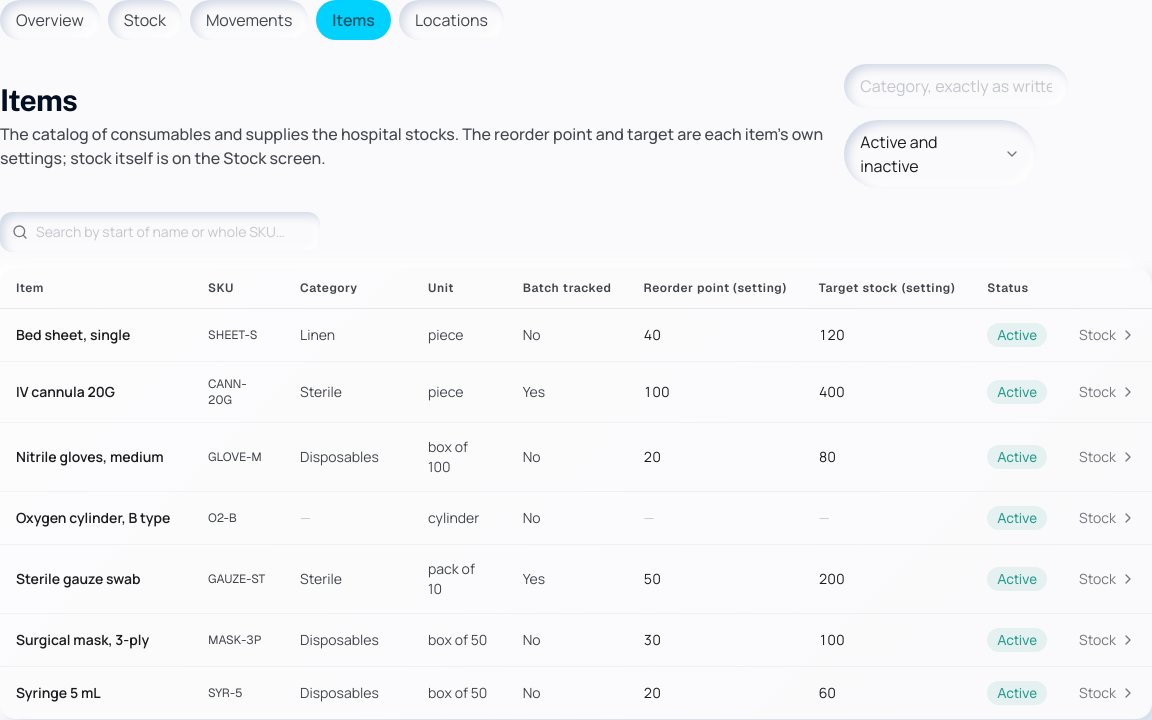
Test case: items › sends every filter together, and says when a status is what leaves the list empty
Check: the row "Syringe 5 mL" is shown, box x1=0 y1=666 x2=1151 y2=719
Click the dropdown named "Filter by status" at (940, 154), box x1=844 y1=120 x2=1036 y2=188
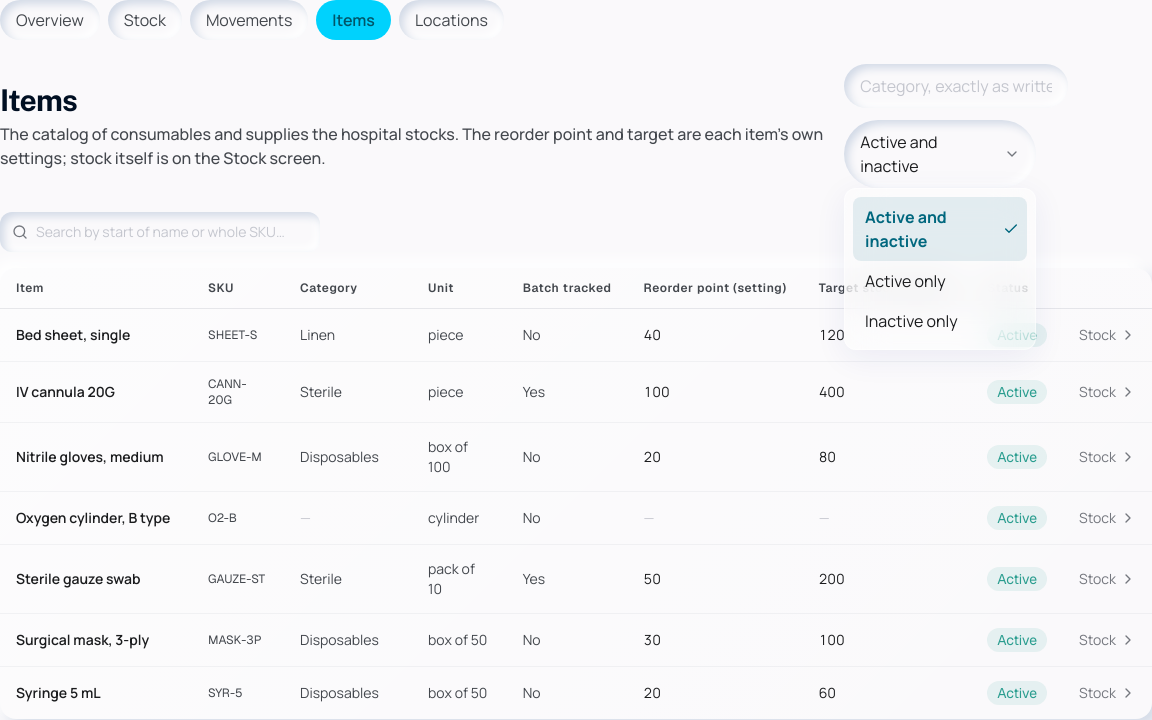
Click the option "Inactive only" at (911, 321), box x1=865 y1=310 x2=958 y2=332
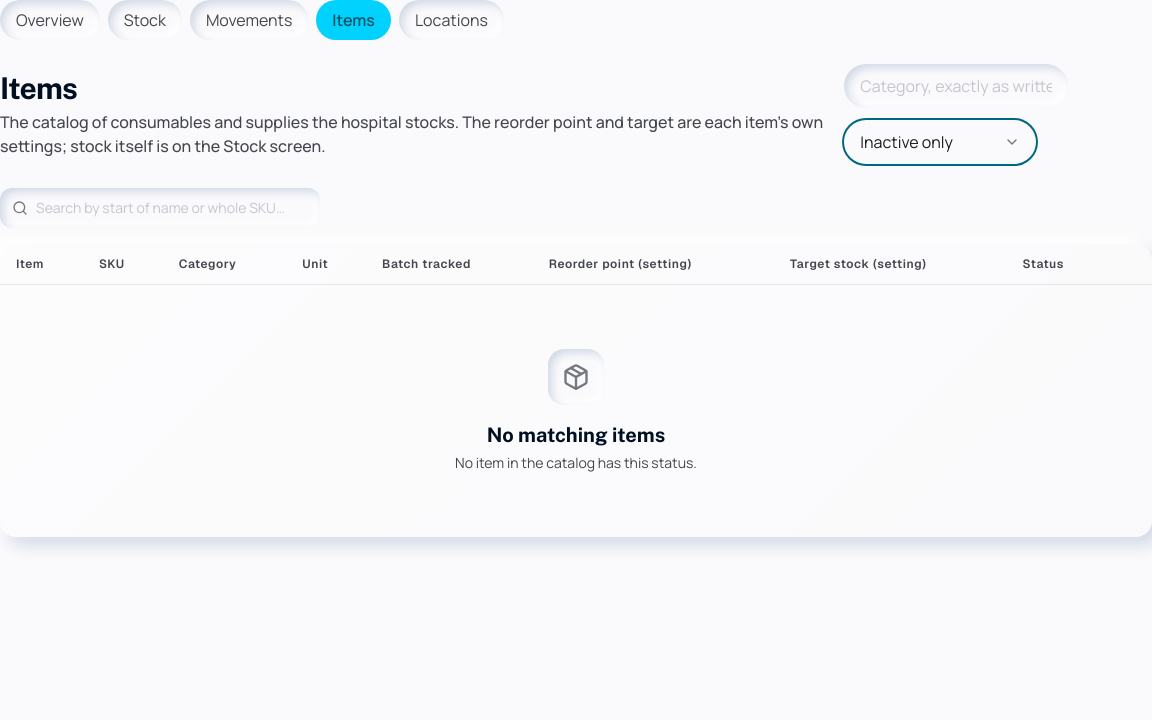
Check: the text "No matching items" is shown, box x1=487 y1=423 x2=665 y2=447
Check: the text "No item in the catalog has this status." is shown, box x1=455 y1=453 x2=697 y2=473
Click the dropdown named "Filter by status" at (940, 142), box x1=844 y1=120 x2=1036 y2=164
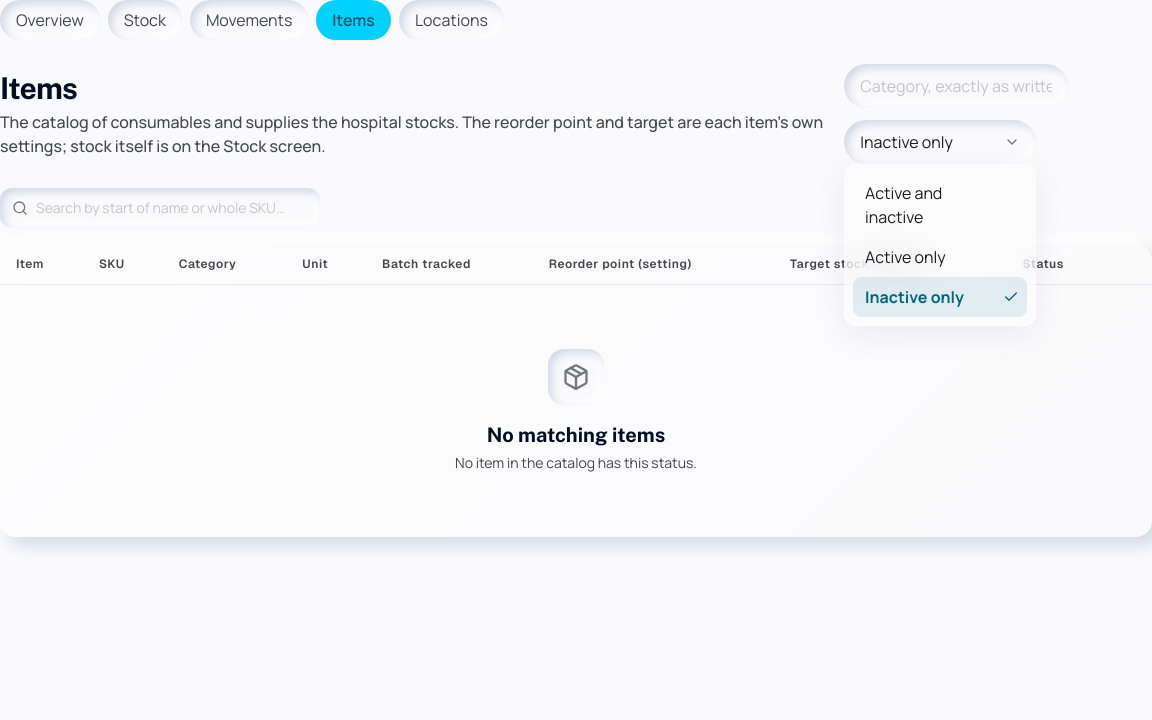
Click the option "Active only" at (905, 257), box x1=865 y1=246 x2=946 y2=268
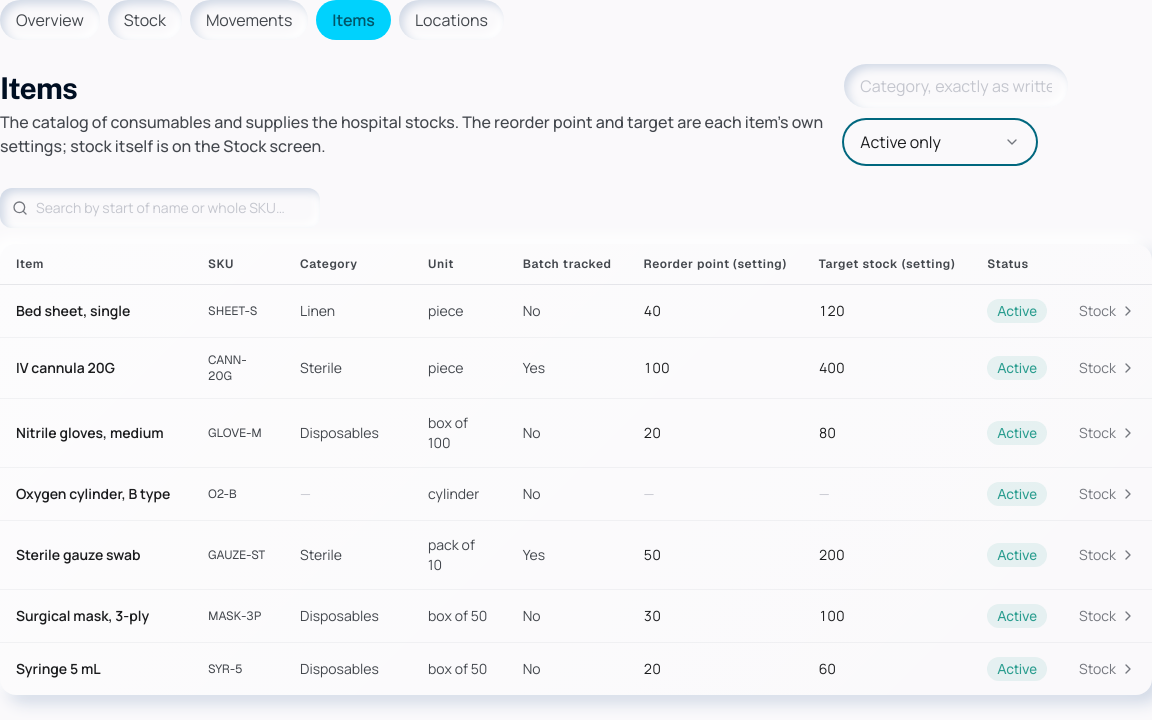
Type "sterile" into the field labelled "Search by start of name or whole SKU…" at (160, 208), box x1=0 y1=188 x2=320 y2=228
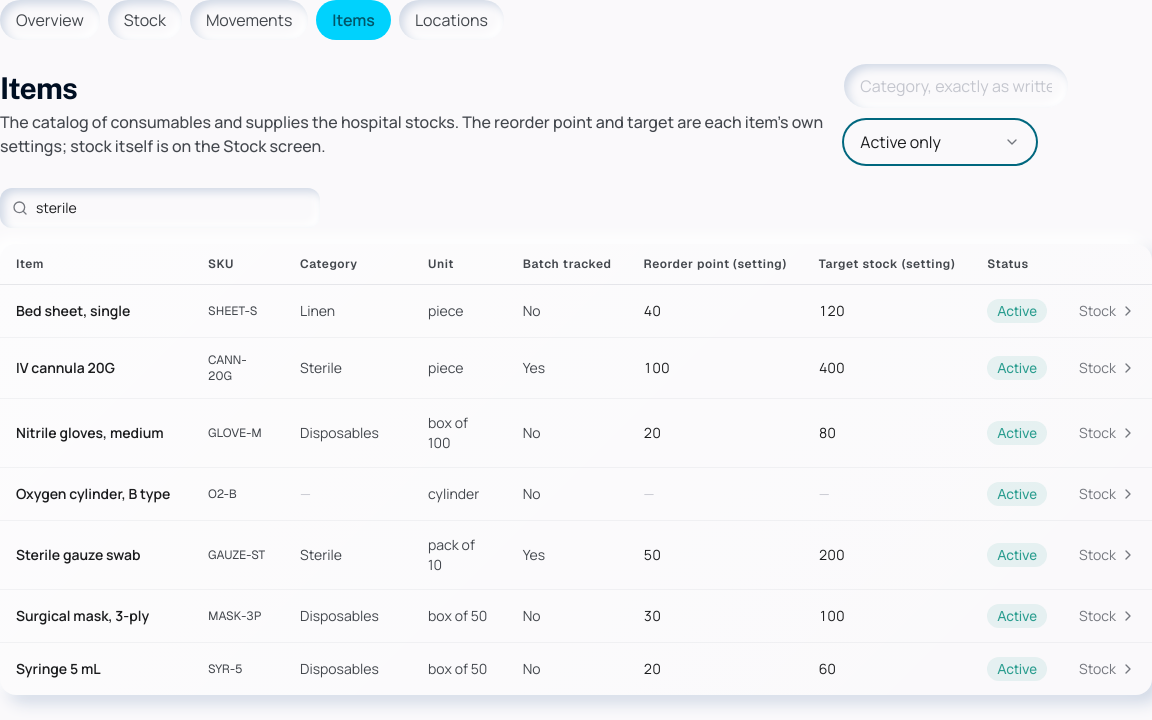
Type "Sterile" into the field named "Filter by exact category" at (956, 86), box x1=844 y1=64 x2=1068 y2=108
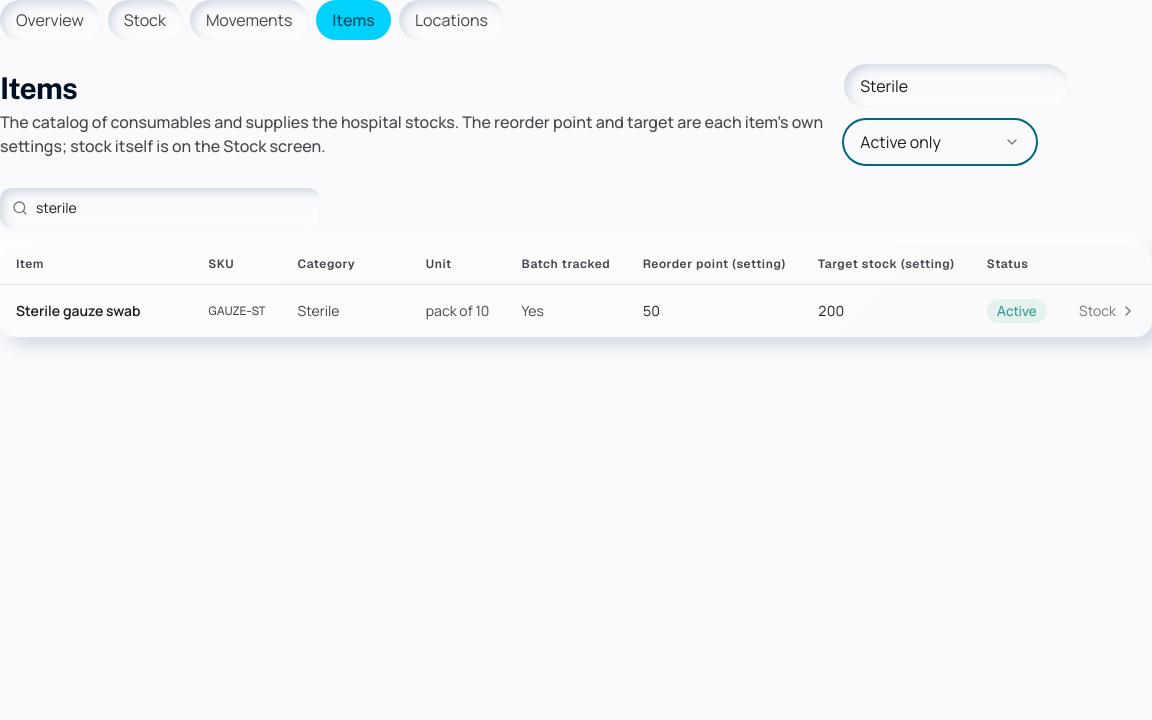
Check: the row "Sterile gauze swab" is shown, box x1=0 y1=284 x2=1151 y2=337
